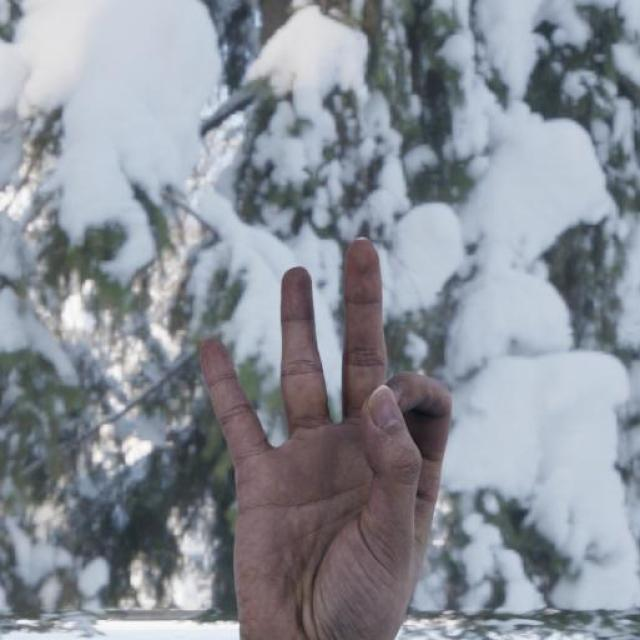F: (192, 234, 454, 640)
